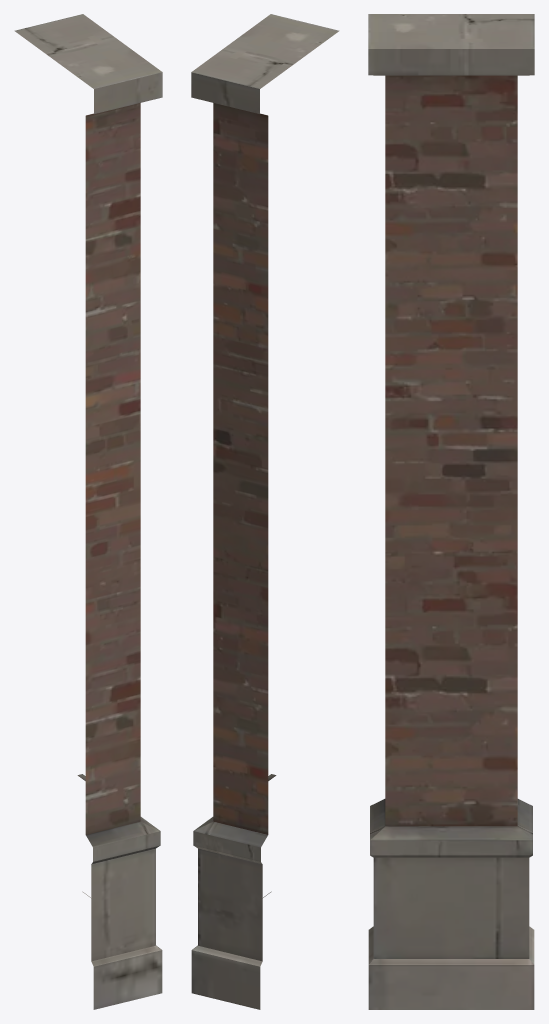
The picture shows the model from 3 angles, left to right: view 1: azimuth 30°, elevation 25°; view 2: azimuth 150°, elevation 25°; view 3: azimuth 270°, elevation 25°; orthographic projection. The views are drawn at different scales.
Parts seen in each view (by area): view 1: body0_model0_lod0_mesh0; view 2: body0_model0_lod0_mesh0; view 3: body0_model0_lod0_mesh0.
Part boxes in pixels (box(x1,y1,x2,y2)): body0_model0_lod0_mesh0: box(14, 14, 162, 1009); body0_model0_lod0_mesh0: box(191, 14, 339, 1009); body0_model0_lod0_mesh0: box(368, 14, 534, 1009).
Bounding box in the file's own units: 20.06 × 256 × 40.13.
1 material, 1 textured.
